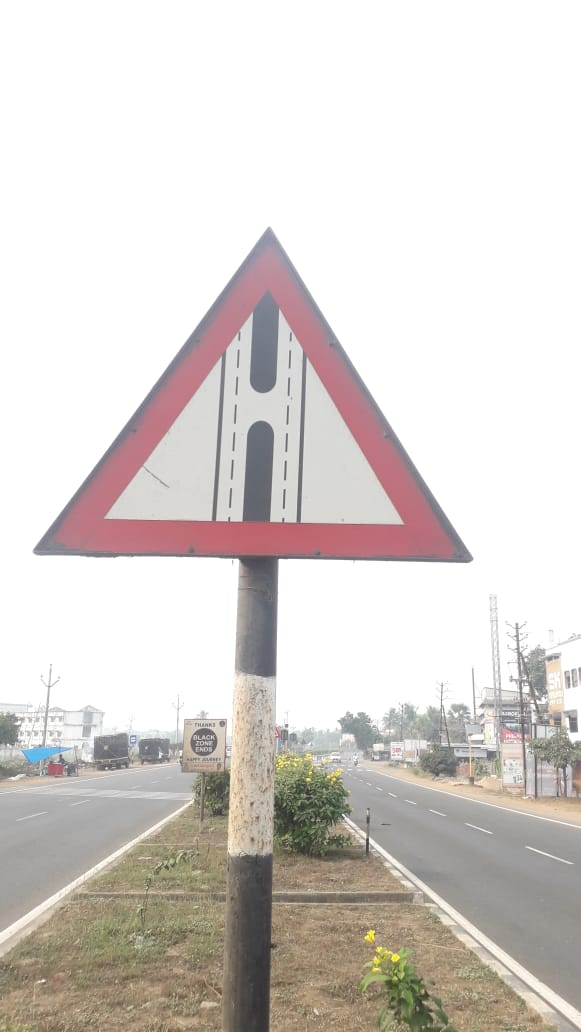highway go straight: (17, 217, 557, 639)
